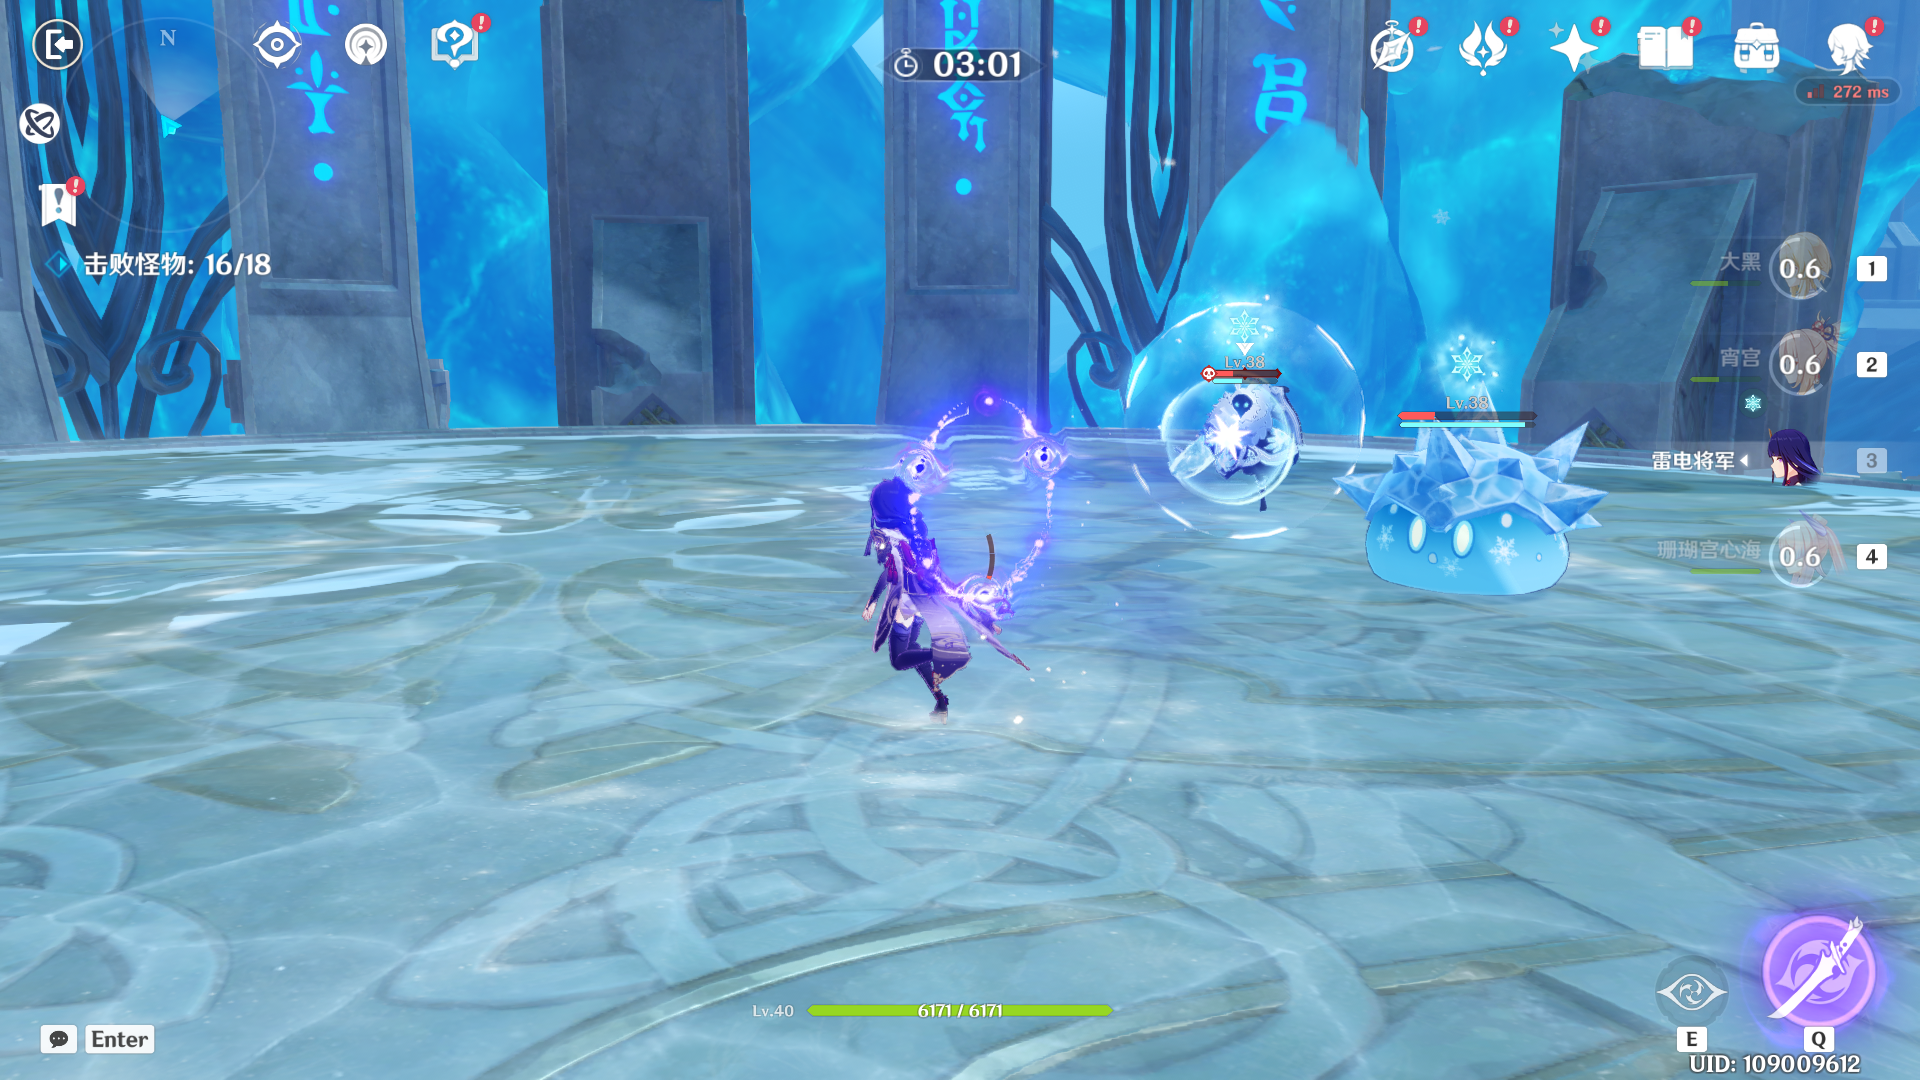caster: (1135, 331, 1337, 524)
character: (811, 459, 1062, 742)
slime: (1327, 406, 1601, 637)
